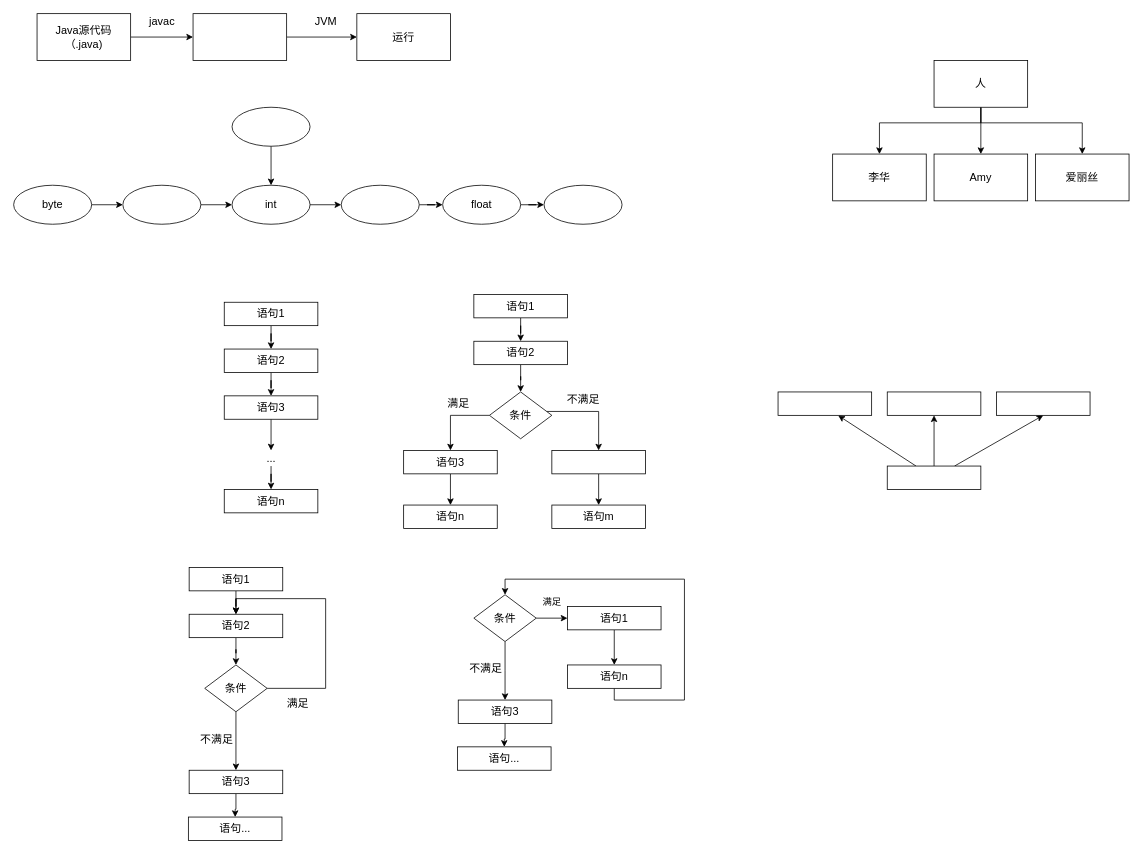
Image size: 1143x854. Some labels were removed from this diagram. Each missing label, with the centre of its shape:
"char" goes at point 270,126.
"double" goes at point 582,204.
"Java字节码文件 (.class/.jar)" goes at point 239,36.
"long" goes at point 379,204.
"short" goes at point 161,204.
"语句4" goes at point 598,462.
